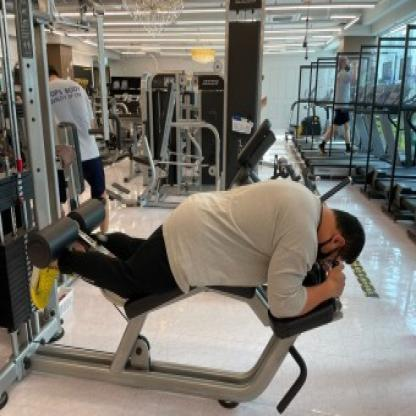reg curl machine: (0, 1, 366, 416)
